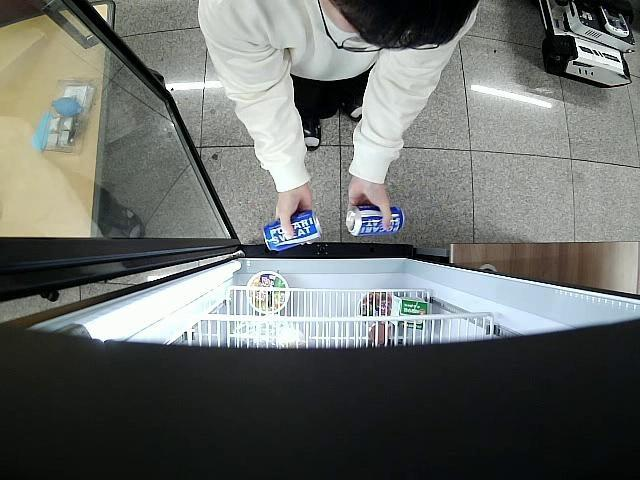13_pocariSweat: (264, 213, 322, 250), (347, 204, 406, 236)
